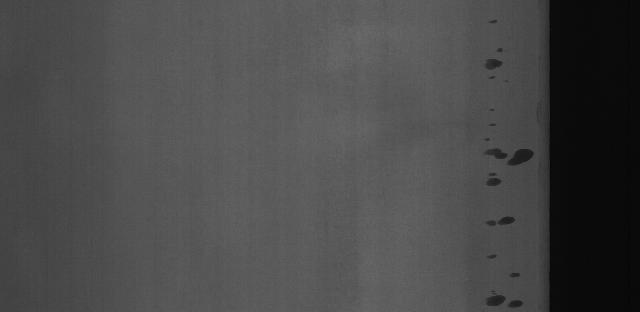oil_spot: (480, 121, 536, 187), (484, 271, 527, 309), (477, 209, 523, 238), (481, 46, 514, 83), (487, 251, 500, 263)
